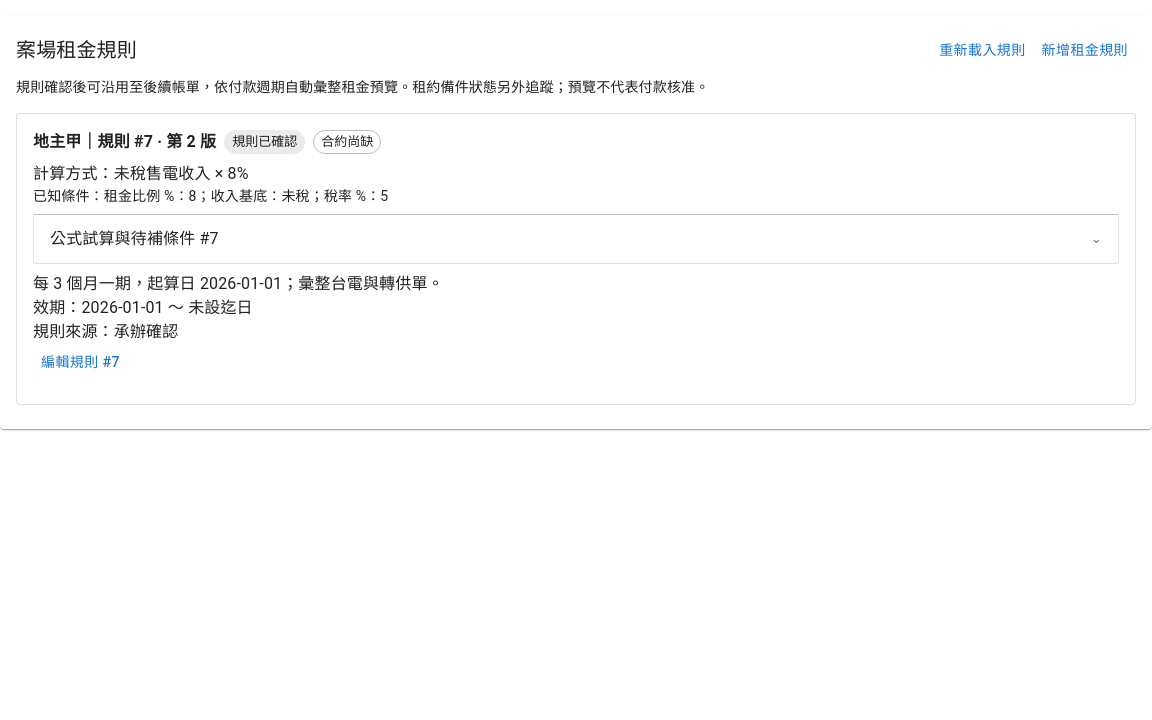
station recurring rental rules › sends the loaded revision and preserves edits when a concurrent write is rejected
Click the button "編輯規則 #7".
click(80, 362)  # box [33,344,128,380]
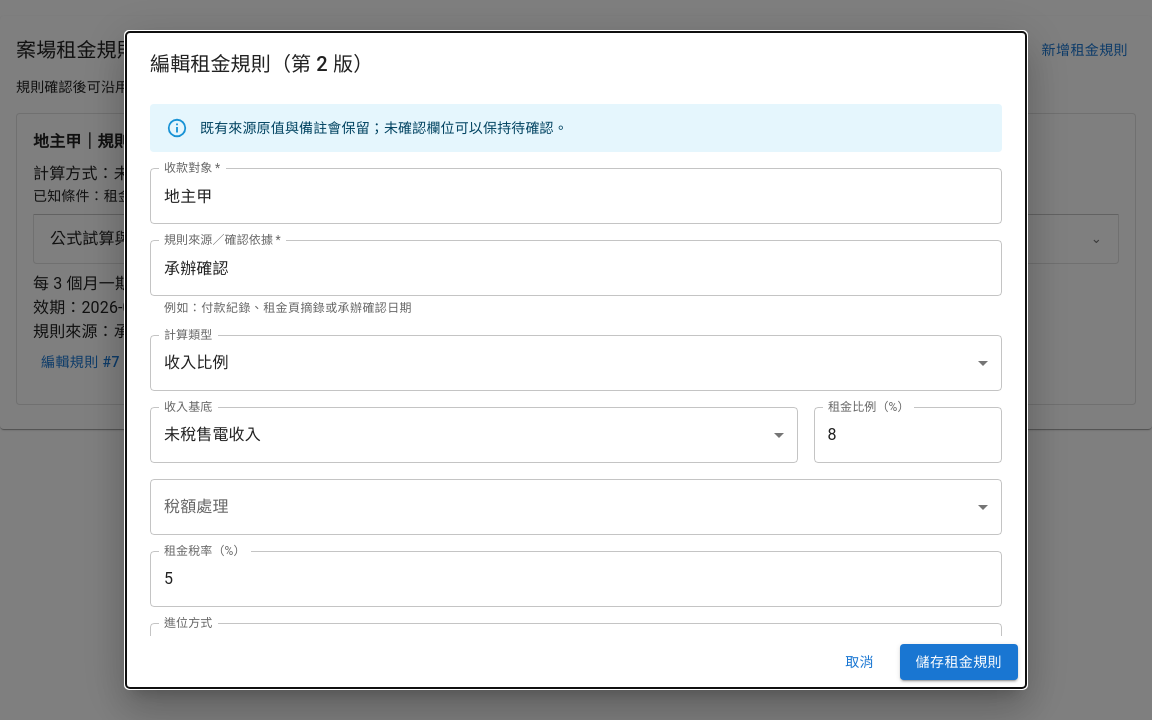
Replace the text in the field labelled "收款對象 *" with "地主乙" at (576, 196), box [150,168,1002,224]
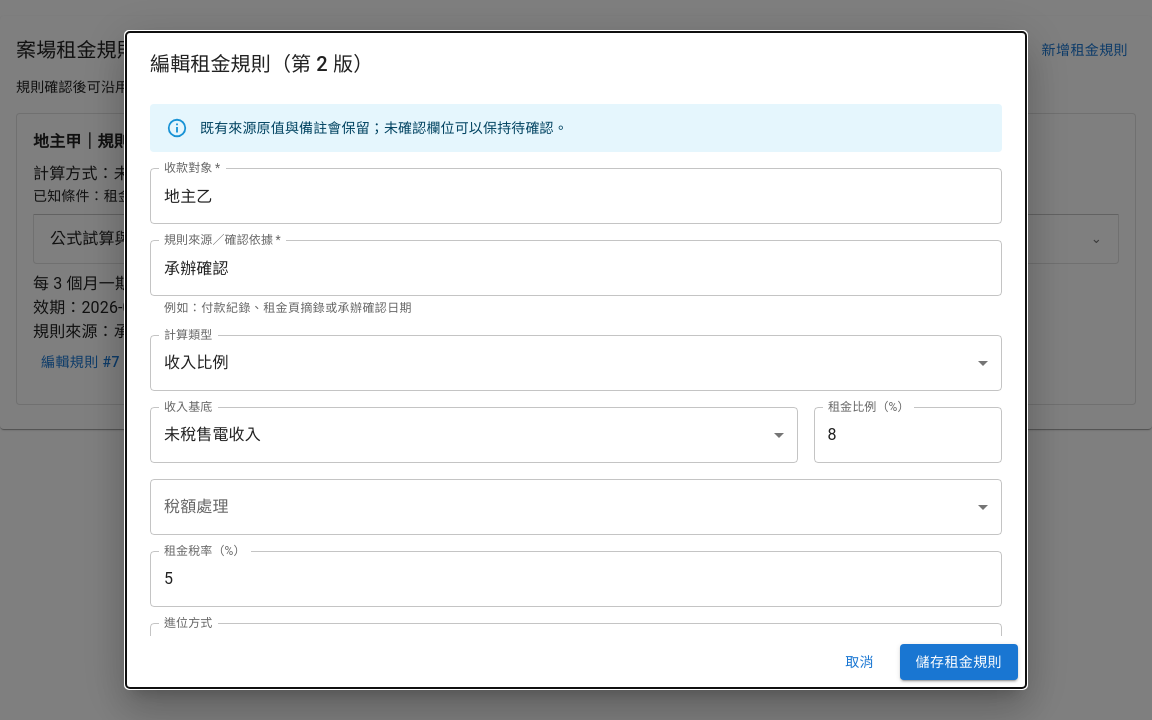
Click the button "儲存租金規則".
click(959, 662)  # box [900,644,1018,680]
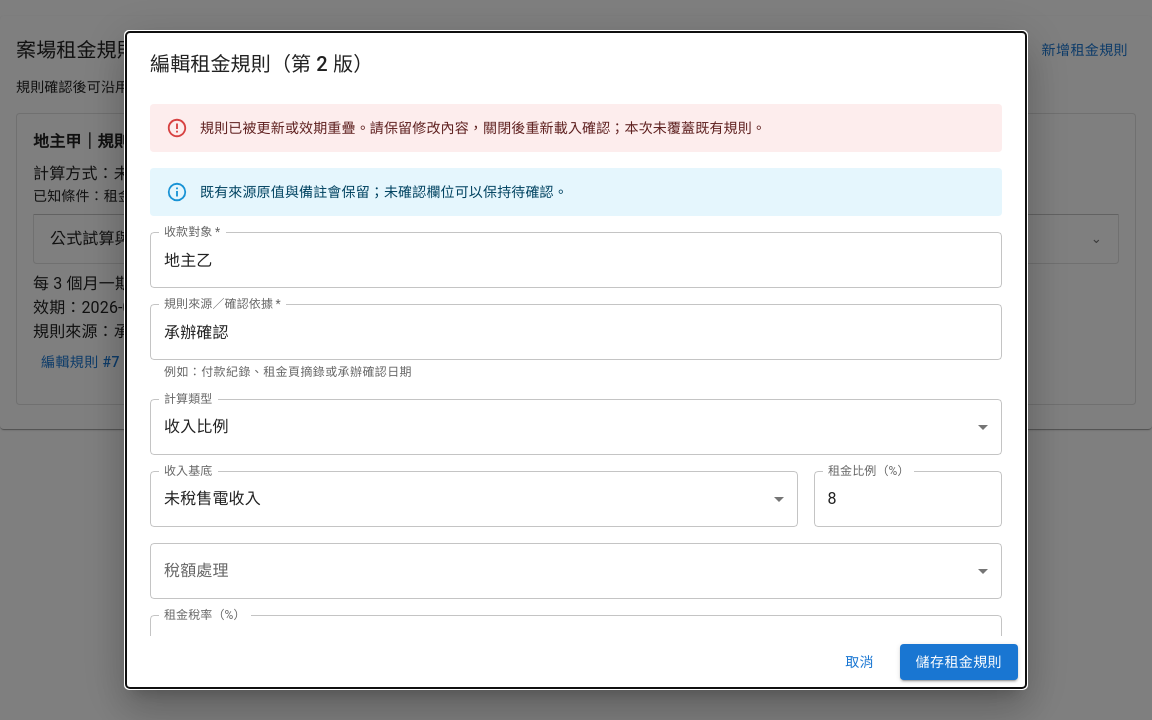
Expected: the text "規則已被更新或效期重疊。請保留修改內容，關閉後重新載入確認；本次未覆蓋既有規則。" is shown, [200,120,766,136]
